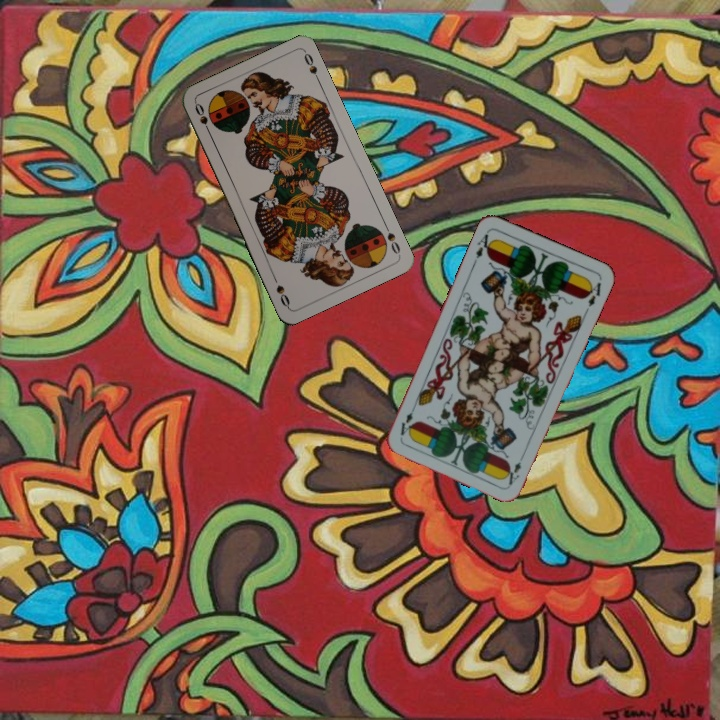EA: (501, 449, 527, 488), (472, 227, 496, 261)
SO: (191, 99, 214, 138), (380, 219, 403, 258)
